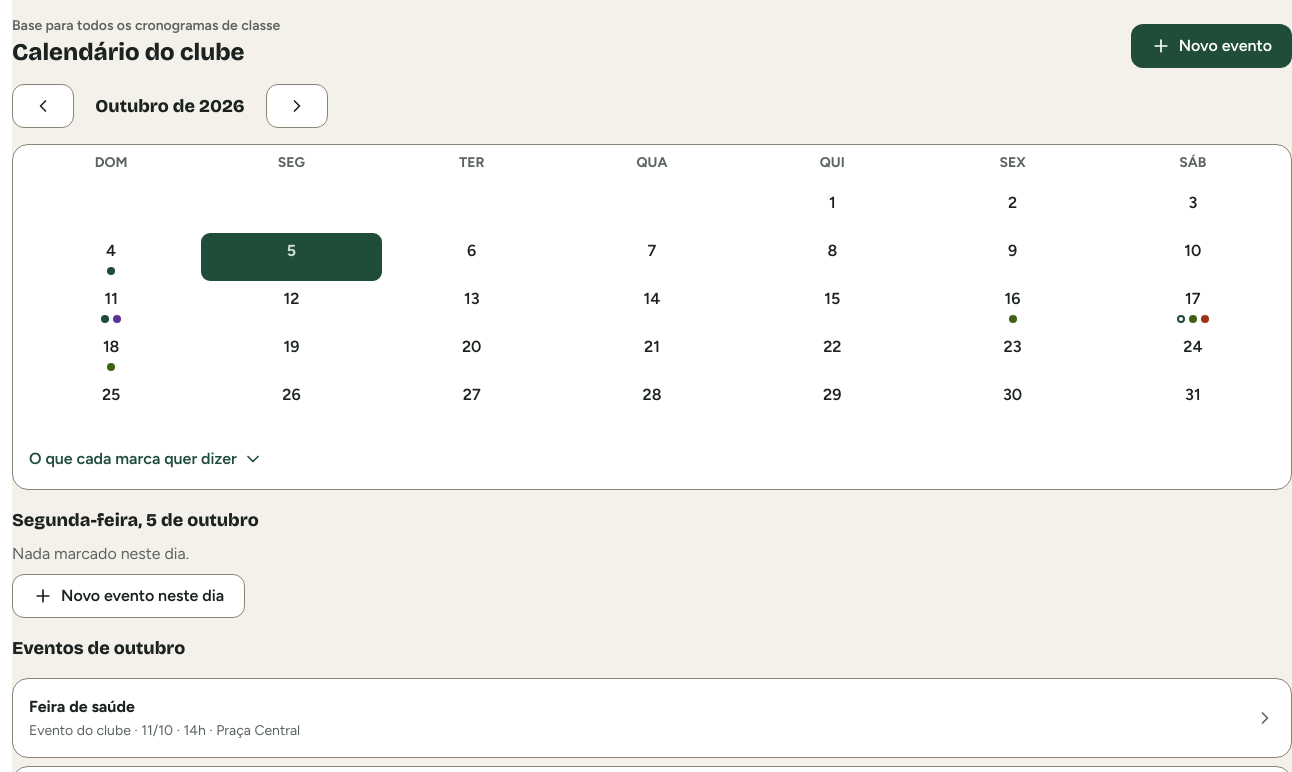
calendário · no celular › a legenda vem recolhida e abre pelo botão
This screenshot has width=1292, height=772.
Click the button "O que cada marca quer dizer" at (146,459), box [21,437,271,481]
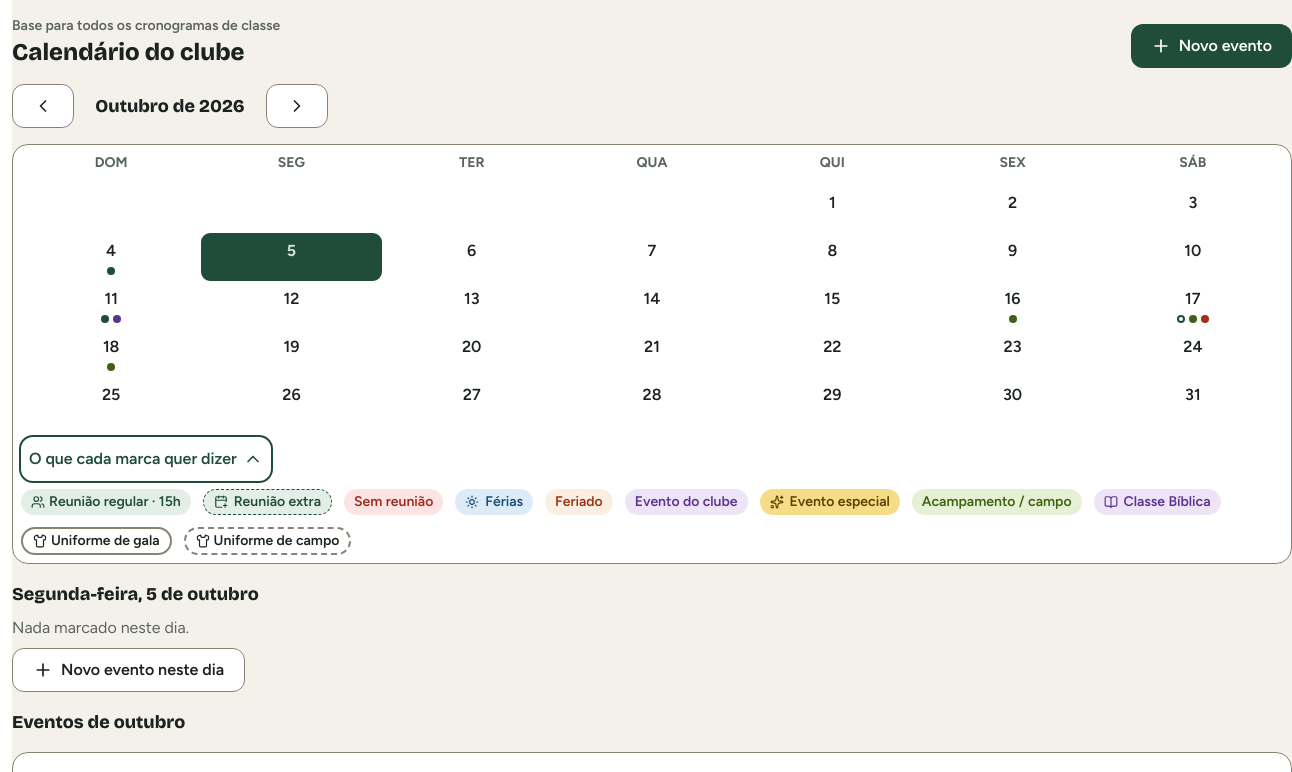
Check: the button "O que cada marca quer dizer" is expanded, box [21,437,271,481]
Check: the list item "Reunião regular · 15h" is shown, box [21,489,191,515]
